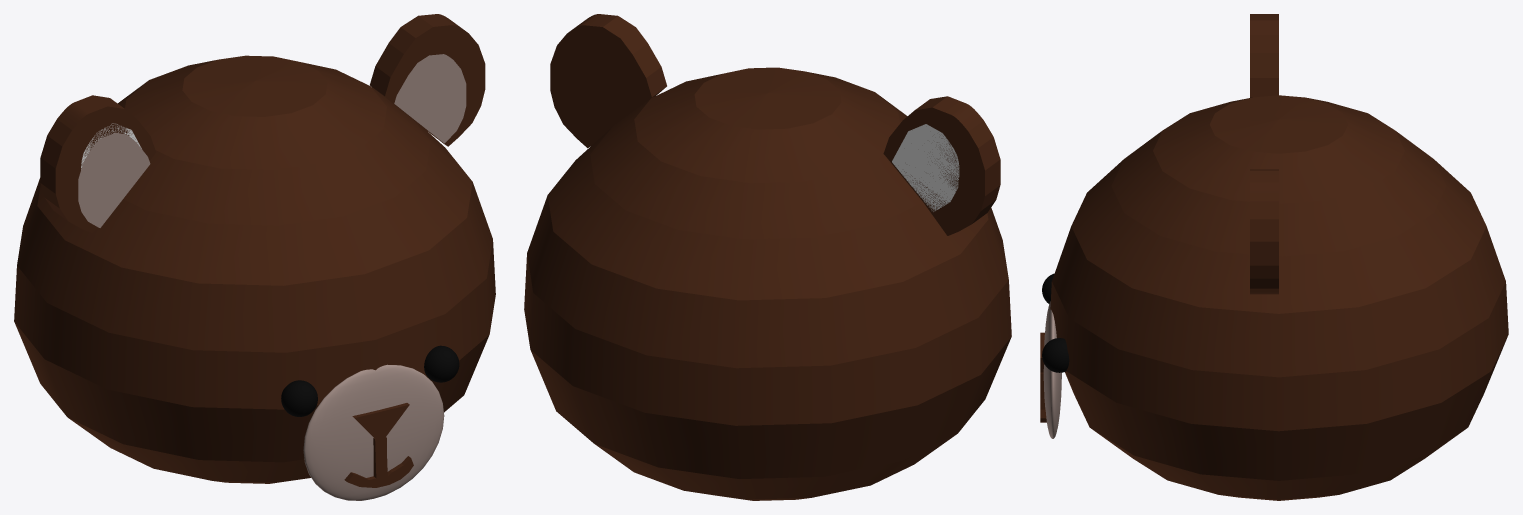
File: bear v2019.fbx
3 renders of one model, left to right at view 1: azimuth 30°, elevation 25°; view 2: azimuth 150°, elevation 25°; view 3: azimuth 270°, elevation 25°, orthographic. The views are drawn at different scales.
Parts seen in each view (by area): view 1: Line001, Sphere003, Line010, Line009, Object001, Object002, Line017, Sphere002, Line014, Sphere001; view 2: Line001, Line009, Line010, Line002; view 3: Line001, Line009, Line010, Sphere003, Sphere001.
Boxes of the visible parts, x1,y1,x2,y2 form: Line001: (14, 55, 495, 483); Sphere003: (303, 364, 444, 500); Line010: (40, 95, 155, 233); Line009: (370, 14, 485, 146); Object001: (394, 54, 466, 143); Object002: (78, 132, 150, 227); Line017: (344, 437, 413, 487); Sphere002: (281, 380, 317, 416); Line014: (352, 403, 409, 443); Sphere001: (424, 345, 459, 382); Line001: (524, 67, 1011, 500); Line009: (550, 14, 666, 148); Line010: (883, 96, 1000, 235); Line002: (892, 124, 959, 211); Line001: (1050, 95, 1508, 500); Line009: (1250, 169, 1278, 294); Line010: (1250, 14, 1278, 97); Sphere003: (1043, 301, 1061, 438); Sphere001: (1042, 338, 1069, 372).
Size of the model in its own units: 652 by 578 by 651.
